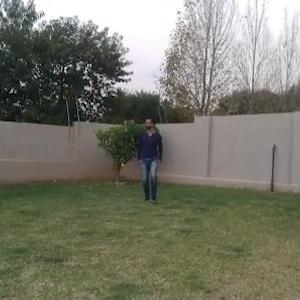follow: (139, 116, 161, 205)
